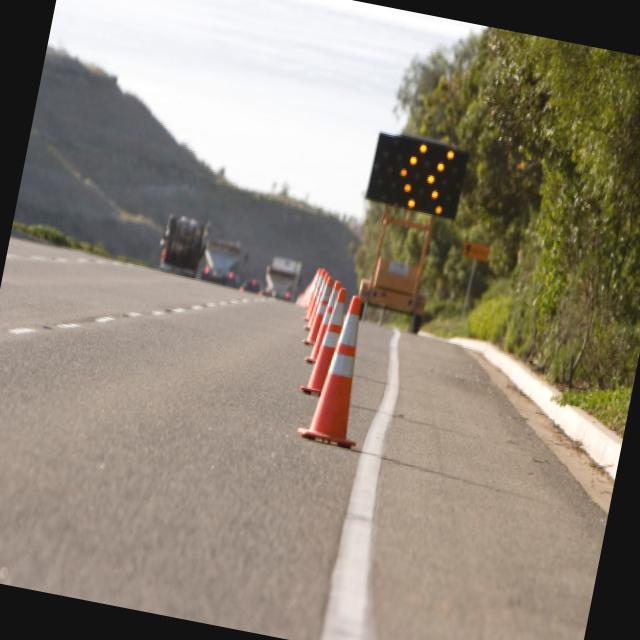cone: (302, 288, 380, 452)
